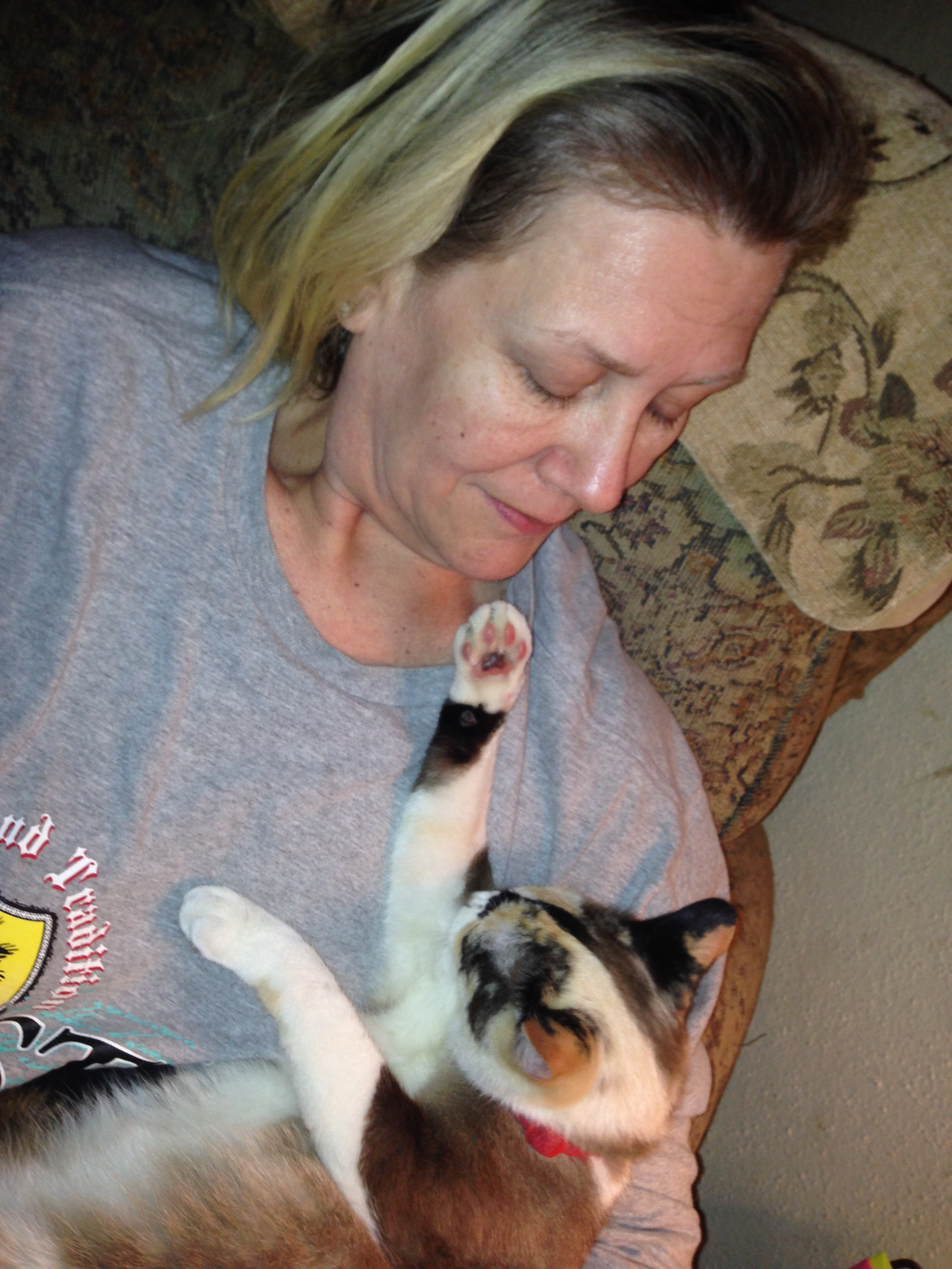cat: (443, 279, 951, 1268)
